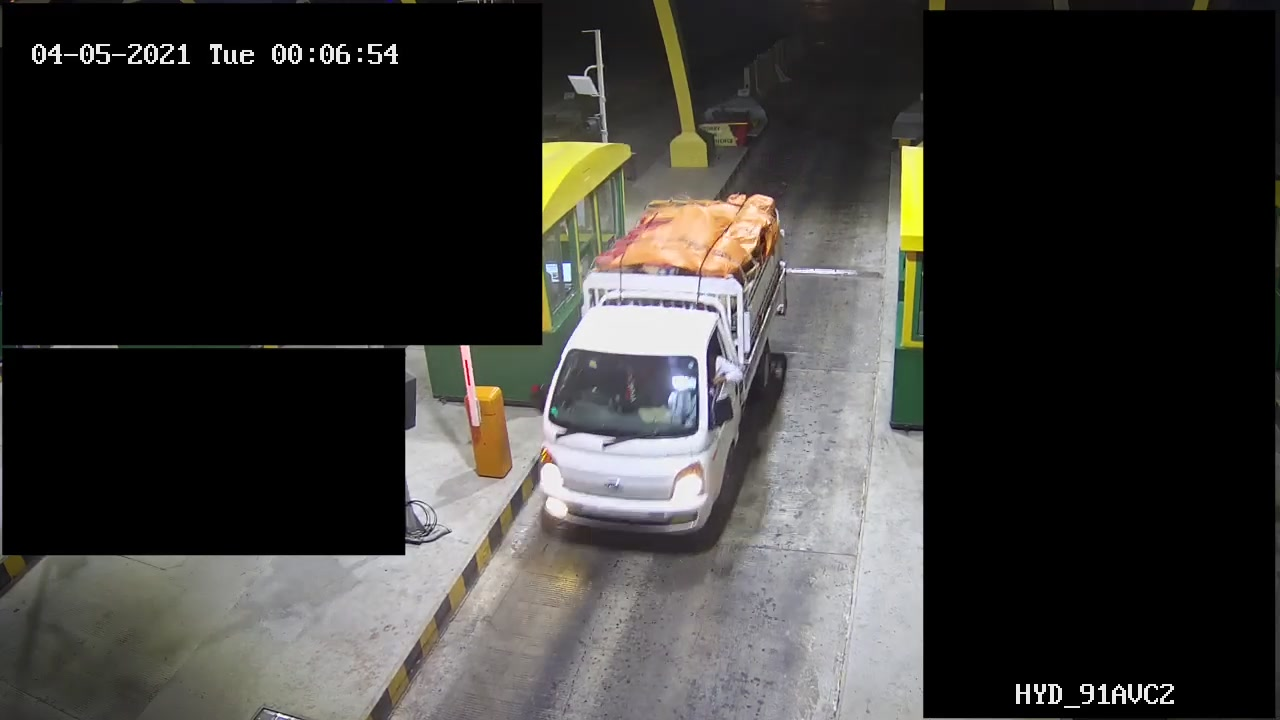F2: (537, 187, 786, 549)
